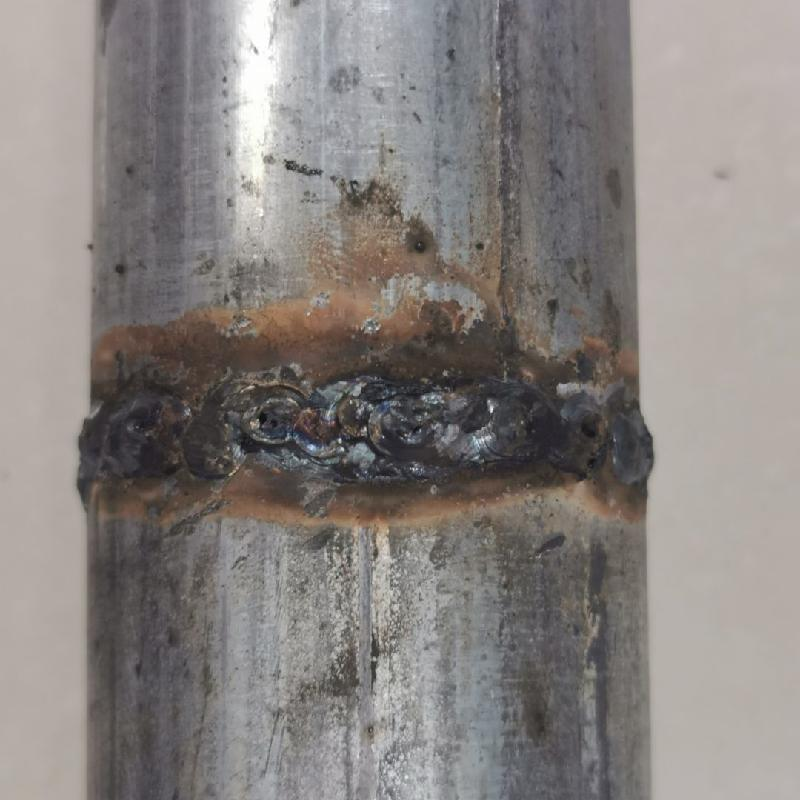Surface_pores: (573, 403, 608, 448), (252, 404, 288, 435)
crater: (244, 385, 434, 464)
wrong_size: (443, 380, 663, 489), (61, 396, 244, 491)
